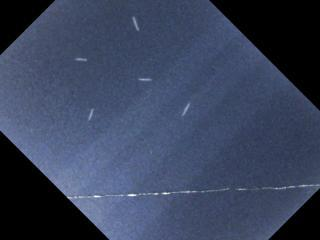crack: (64, 184, 319, 199)
scratch: (179, 101, 191, 118), (131, 15, 140, 35), (87, 107, 96, 121), (137, 77, 153, 82), (74, 57, 87, 62)
